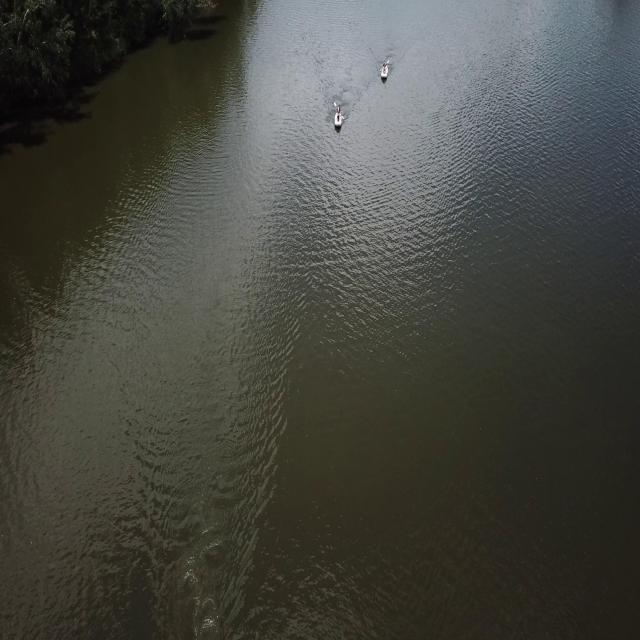kayak: (331, 106, 345, 132), (379, 58, 391, 86)
